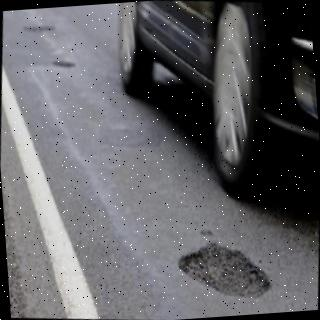pothole: (178, 243, 272, 300)
